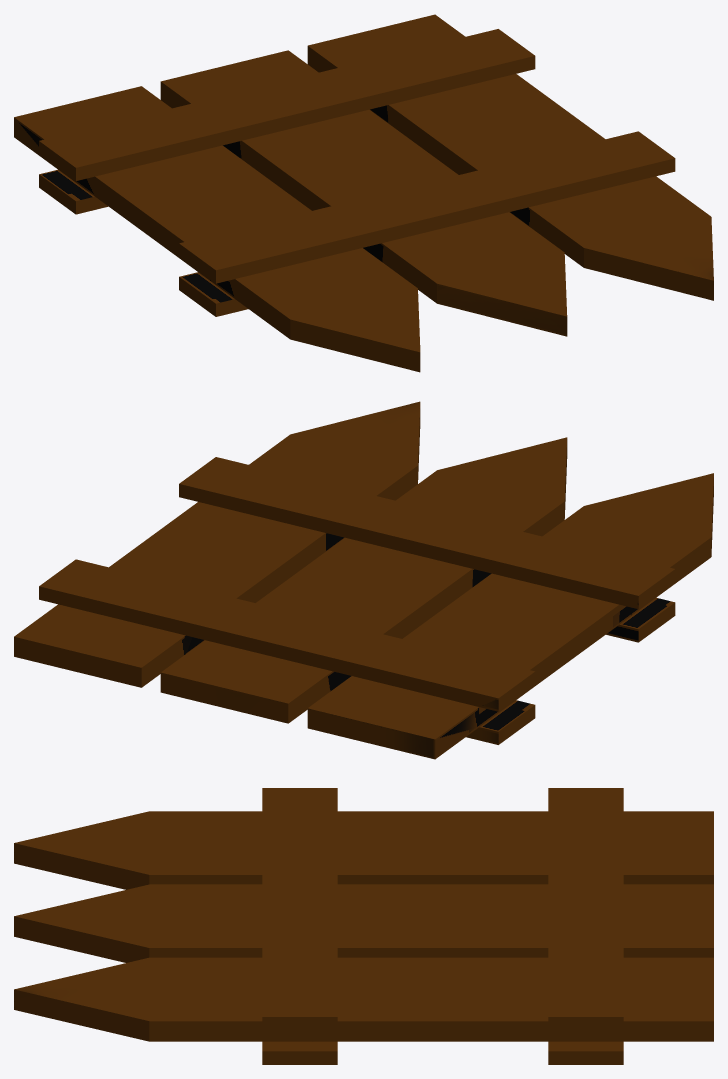
File: krotkiplot.fbx
The picture shows the model from 3 angles, top to bottom: view 1: azimuth 30°, elevation 25°; view 2: azimuth 150°, elevation 25°; view 3: azimuth 270°, elevation 25°; orthographic projection. The views are drawn at different scales.
Parts seen in each view (by area): view 1: obj_0; view 2: obj_0; view 3: obj_0.
Boxes of the visible parts, x1,y1,x2,y2 form: obj_0: (14,14,713,372); obj_0: (14,401,713,759); obj_0: (14,788,713,1064).
Bounding box in the file's own units: 7200 × 700 × 9300.
